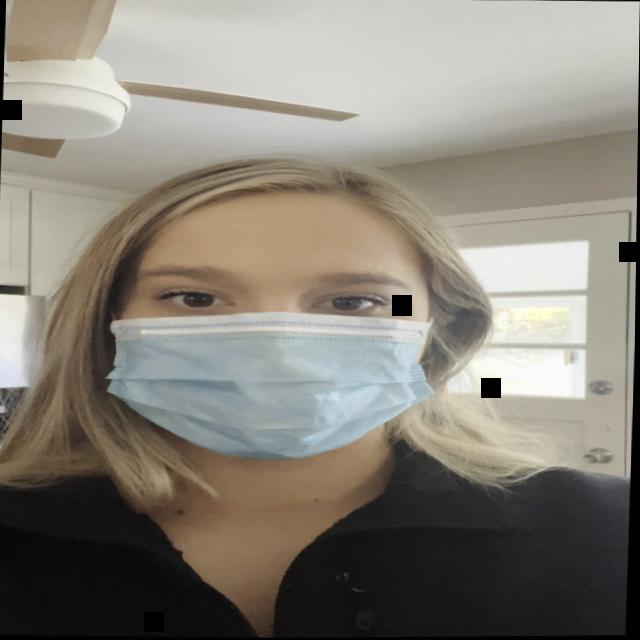Mask: (63, 173, 496, 486)
